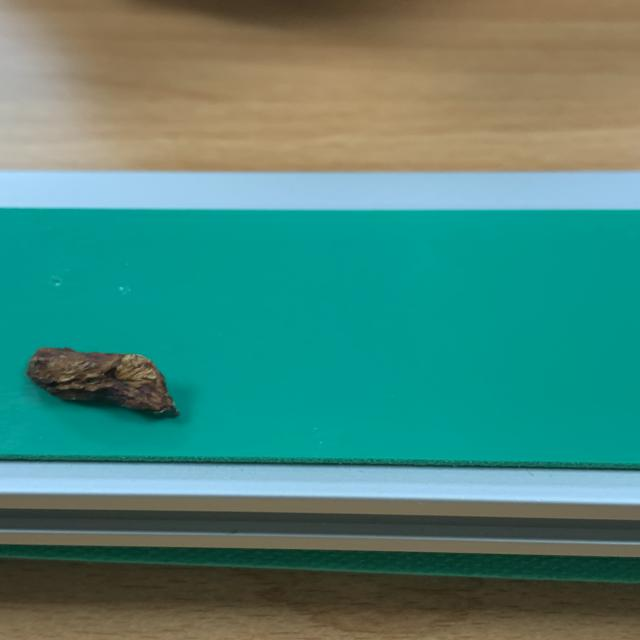Flat_cocoabeans: (0, 306, 231, 447)
